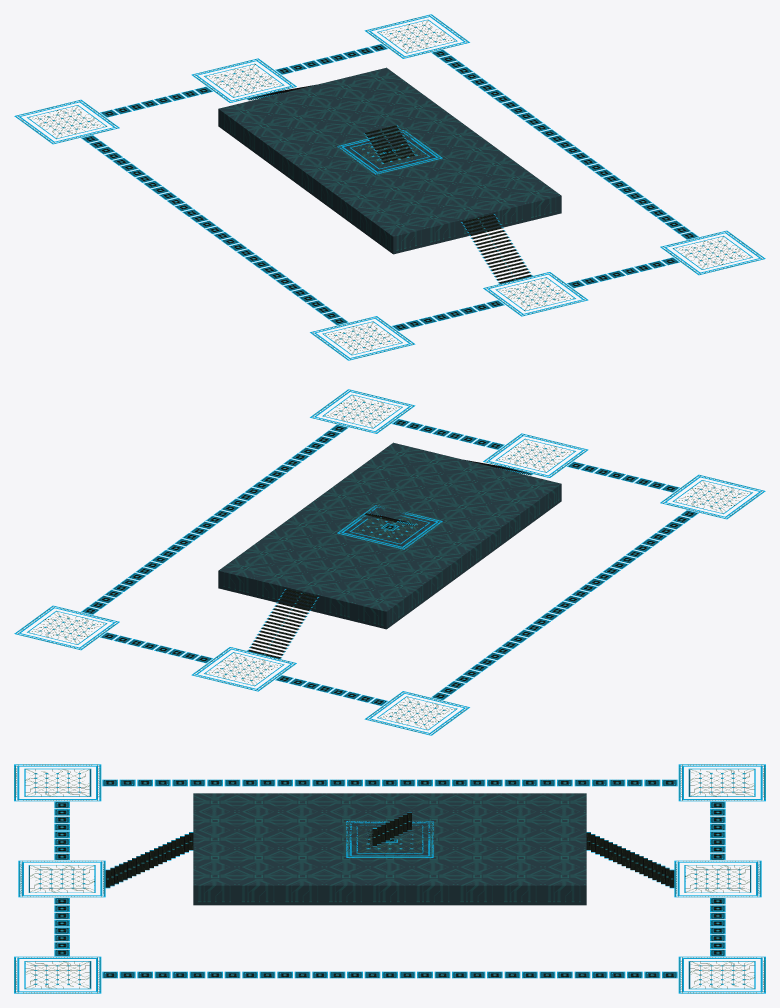
File: Map.fbx
3 views of the same model, one above another, from view 1: azimuth 30°, elevation 25°; view 2: azimuth 150°, elevation 25°; view 3: azimuth 270°, elevation 25° (orthographic). The views are drawn at different scales.
Parts seen in each view (by area): view 1: Island.043, RoadL.001, RoadL.002, RoadL.004, RoadL.006, RoadL.003, RoadL.005, Island.041, Island.044, Island.042, Island.040, RoadL (+41 smaller); view 2: Island.038, RoadL.001, RoadL.002, RoadL.003, RoadL.005, RoadL.004, RoadL.006, Island.036, Island.039, Island.037, RoadL, Island.035 (+41 smaller); view 3: RoadL.004, RoadL.006, RoadL.003, RoadL.005, RoadL.001, RoadL.002, Island.019, Island.024, Island.004, Island.009, Island.014, Island.029 (+45 smaller).
Boxes of the visible parts, box(x1,y1,x2,y2) form: Island.043: box(374, 214, 426, 254); RoadL.001: box(483, 272, 588, 316); RoadL.002: box(191, 58, 296, 102); RoadL.004: box(660, 230, 765, 275); RoadL.006: box(14, 99, 119, 144); RoadL.003: box(310, 316, 415, 360); RoadL.005: box(364, 14, 469, 58); Island.041: box(408, 206, 460, 245); Island.044: box(509, 181, 561, 221); Island.042: box(475, 190, 527, 228); Island.040: box(441, 198, 494, 237); RoadL: box(337, 130, 442, 174); Island.038: box(353, 589, 405, 629); RoadL.001: box(483, 433, 588, 477); RoadL.002: box(191, 647, 296, 691); RoadL.003: box(660, 474, 765, 519); RoadL.005: box(14, 605, 119, 650); RoadL.004: box(310, 389, 415, 433); RoadL.006: box(364, 691, 469, 735); Island.036: box(319, 581, 371, 620); Island.039: box(218, 556, 270, 596); Island.037: box(252, 565, 304, 603); RoadL: box(337, 505, 442, 549); Island.035: box(285, 573, 338, 612); RoadL.004: box(14, 956, 101, 993); RoadL.006: box(678, 764, 765, 801); RoadL.003: box(14, 764, 101, 801); RoadL.005: box(678, 956, 765, 993); RoadL.001: box(18, 860, 105, 897); RoadL.002: box(674, 860, 761, 897); Island.019: box(455, 867, 499, 905); Island.024: box(280, 867, 324, 905); Island.004: box(368, 867, 411, 905); Island.009: box(412, 867, 455, 905); Island.014: box(324, 867, 367, 905); Island.029: box(499, 867, 542, 905).
Size of what is drawn, in the model's own units: 24800 by 2900 by 34400.
Materials: 4 (4 with a texture image).
